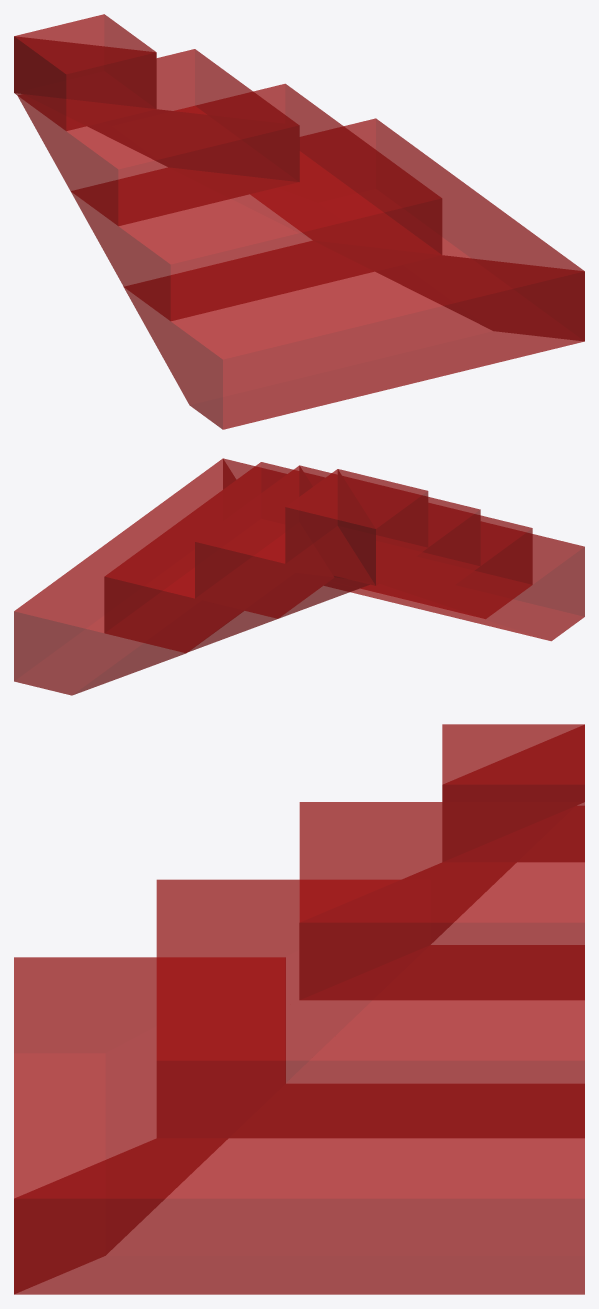
File: SM_Bld_Step_01_Corner_01_Collision.fbx
3 renders of one model, top to bottom at view 1: azimuth 30°, elevation 25°; view 2: azimuth 150°, elevation 25°; view 3: azimuth 270°, elevation 25°, orthographic. The views are drawn at different scales.
Parts seen in each view (by area): view 1: SM_Bld_Step_01_Corner_01_Collision; view 2: SM_Bld_Step_01_Corner_01_Collision; view 3: SM_Bld_Step_01_Corner_01_Collision.
Part boxes in pixels (box(x1,y1,x2,y2)): SM_Bld_Step_01_Corner_01_Collision: box(14, 14, 584, 429); SM_Bld_Step_01_Corner_01_Collision: box(14, 458, 584, 695); SM_Bld_Step_01_Corner_01_Collision: box(14, 724, 584, 1294).
Bounding box in the file's own units: 250 × 159 × 250.
